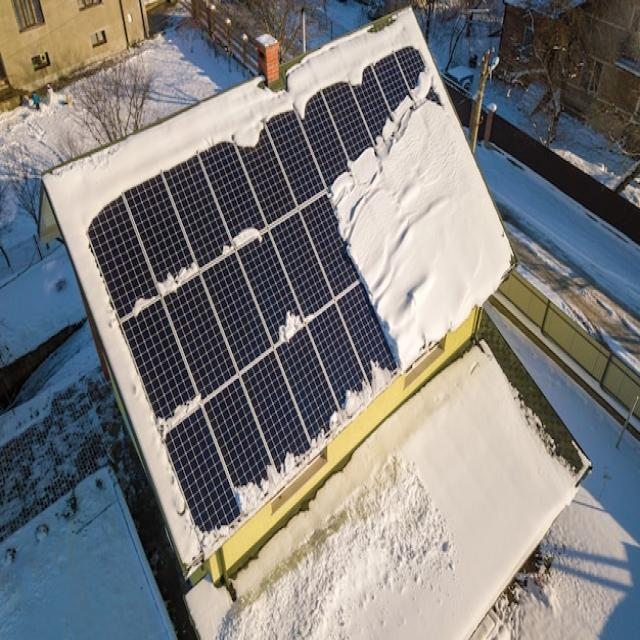snow covered: (88, 66, 424, 555)
